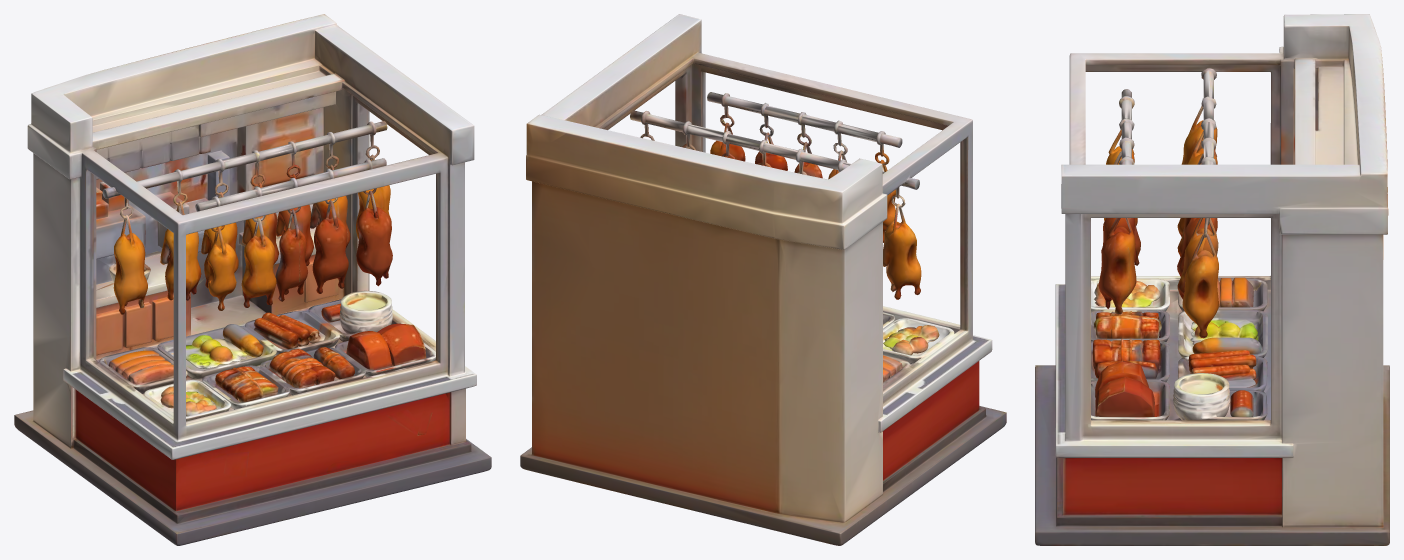
The model's file is luroupu.glb.
3 renders of one model, left to right at view 1: azimuth 30°, elevation 25°; view 2: azimuth 150°, elevation 25°; view 3: azimuth 270°, elevation 25°, orthographic. The views are drawn at different scales.
Visible parts, largest first — view 1: node_0; view 2: node_0; view 3: node_0.
Boxes of the visible parts, x1,y1,x2,y2 form: node_0: (14, 14, 491, 545); node_0: (520, 14, 1006, 545); node_0: (1035, 14, 1389, 545).
Size of the model in its own units: 0.7128 by 0.7356 by 0.6393.
1 material, 1 textured.
